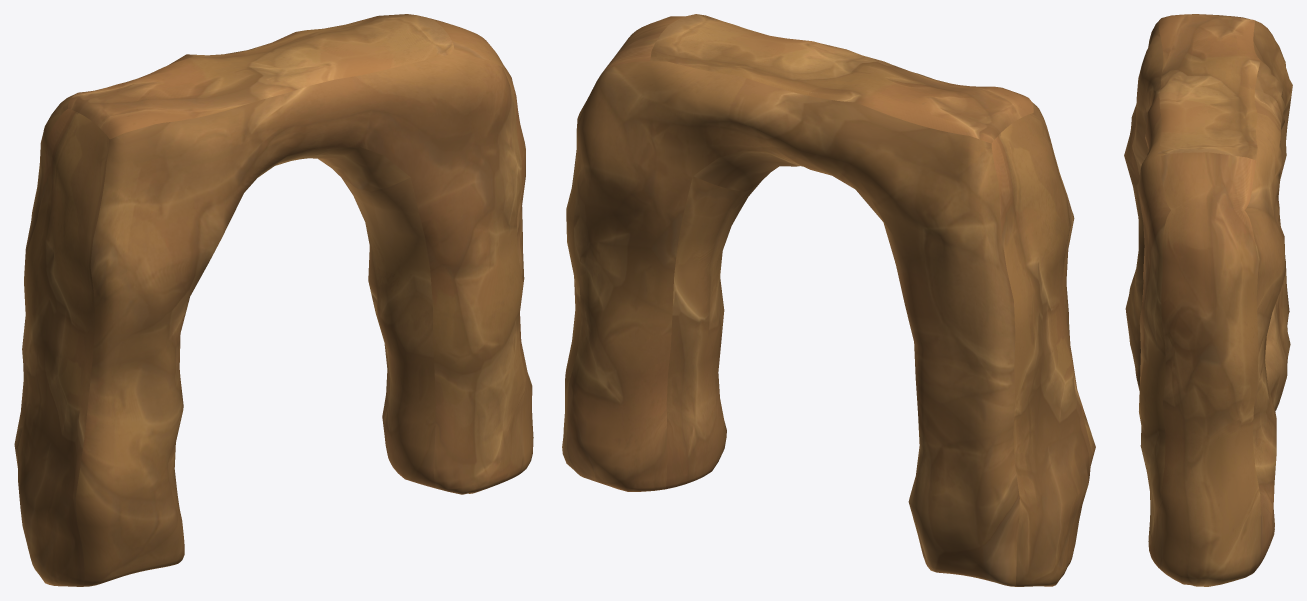
The model's file is Low_islands7.fbx.
3 renders of one model, left to right at view 1: azimuth 30°, elevation 25°; view 2: azimuth 150°, elevation 25°; view 3: azimuth 270°, elevation 25°, orthographic. The views are drawn at different scales.
Parts seen in each view (by area): view 1: Cube.006; view 2: Cube.006; view 3: Cube.006.
Part boxes in pixels (left/top/right/bottom): Cube.006: left=14, top=14, right=533, bottom=586; Cube.006: left=562, top=14, right=1095, bottom=586; Cube.006: left=1124, top=14, right=1292, bottom=586.
Bounding box in the file's own units: 1389 × 1264 × 466.
1 material, 1 textured.
